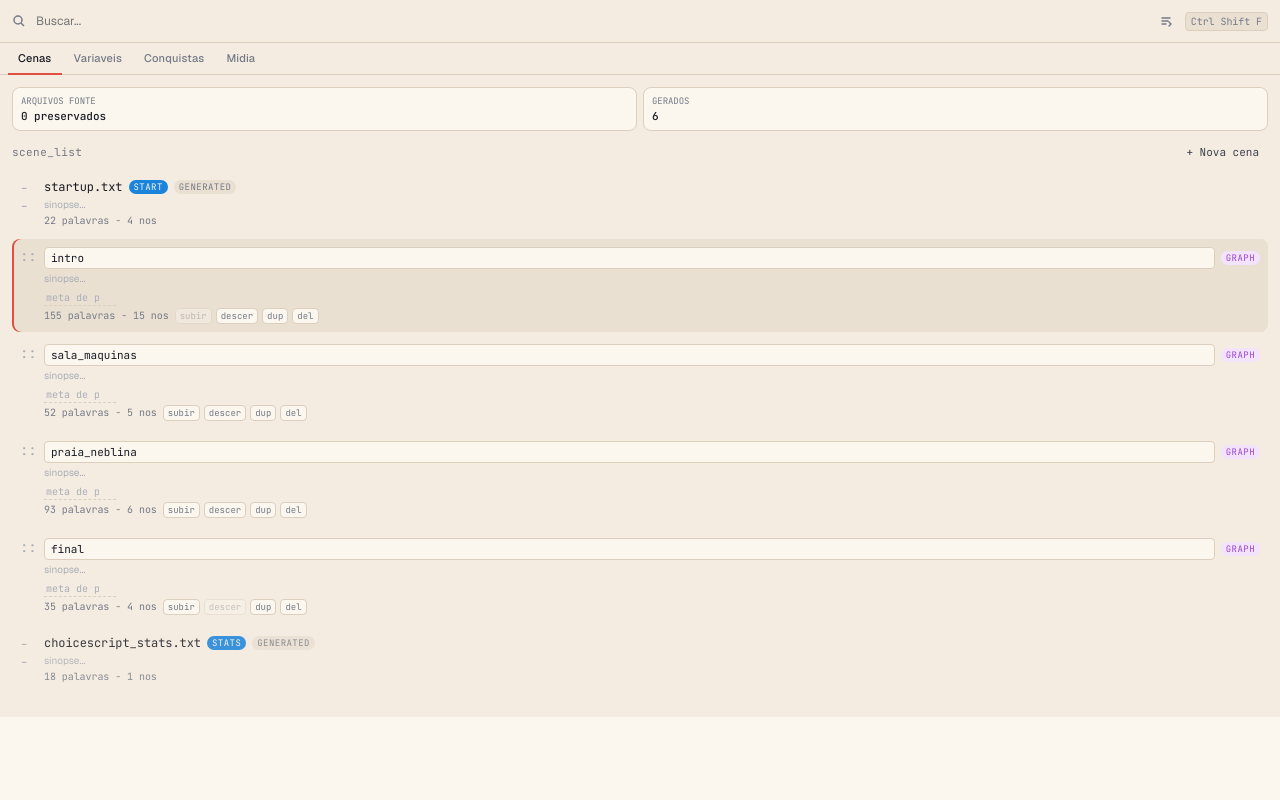
Scenario: LeftPanel — i18n: search results respect the editor language › PT sample: same query shows 'nenhum resultado' in Portuguese
Type "zzzznonexistent_query_zzzz" into the field with placeholder "Buscar..." at point(590, 21), box [34,12,1147,30]
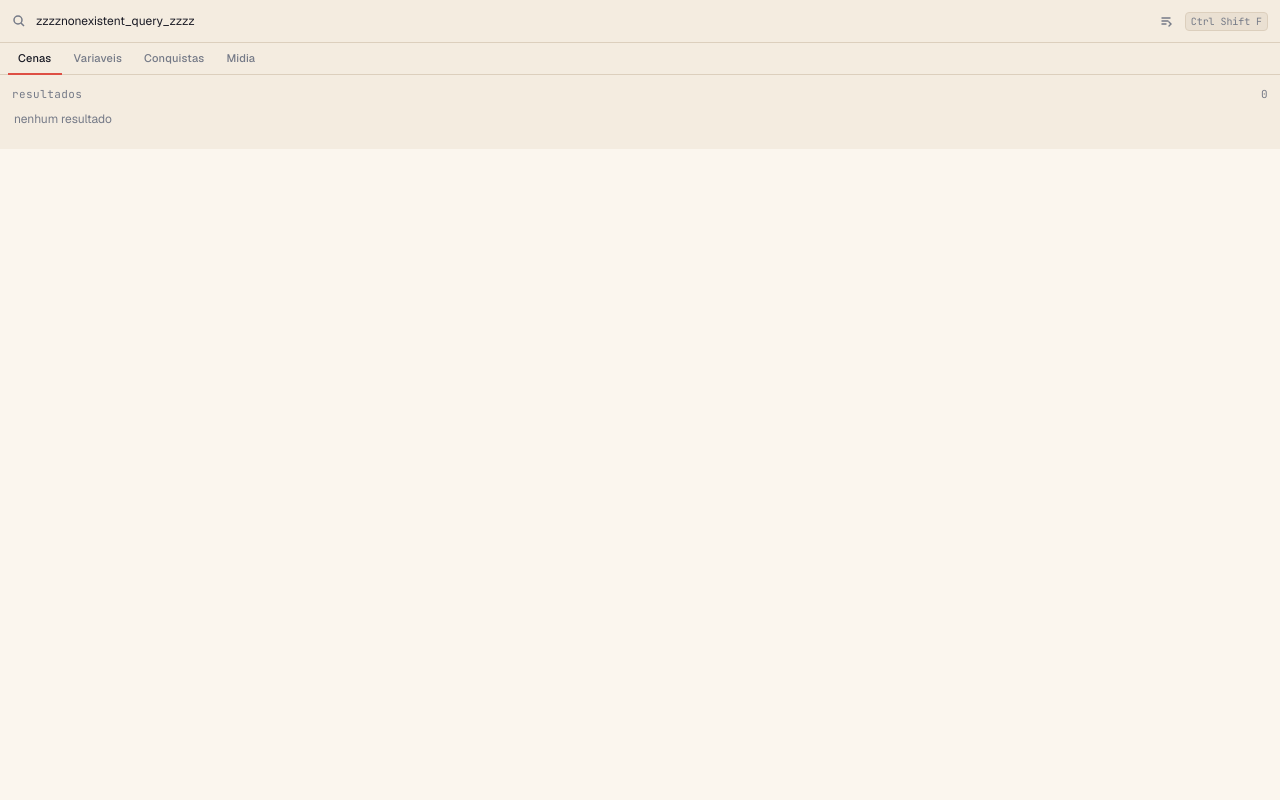
Expected: the text "nenhum resultado" is shown, [14,111,112,127]
